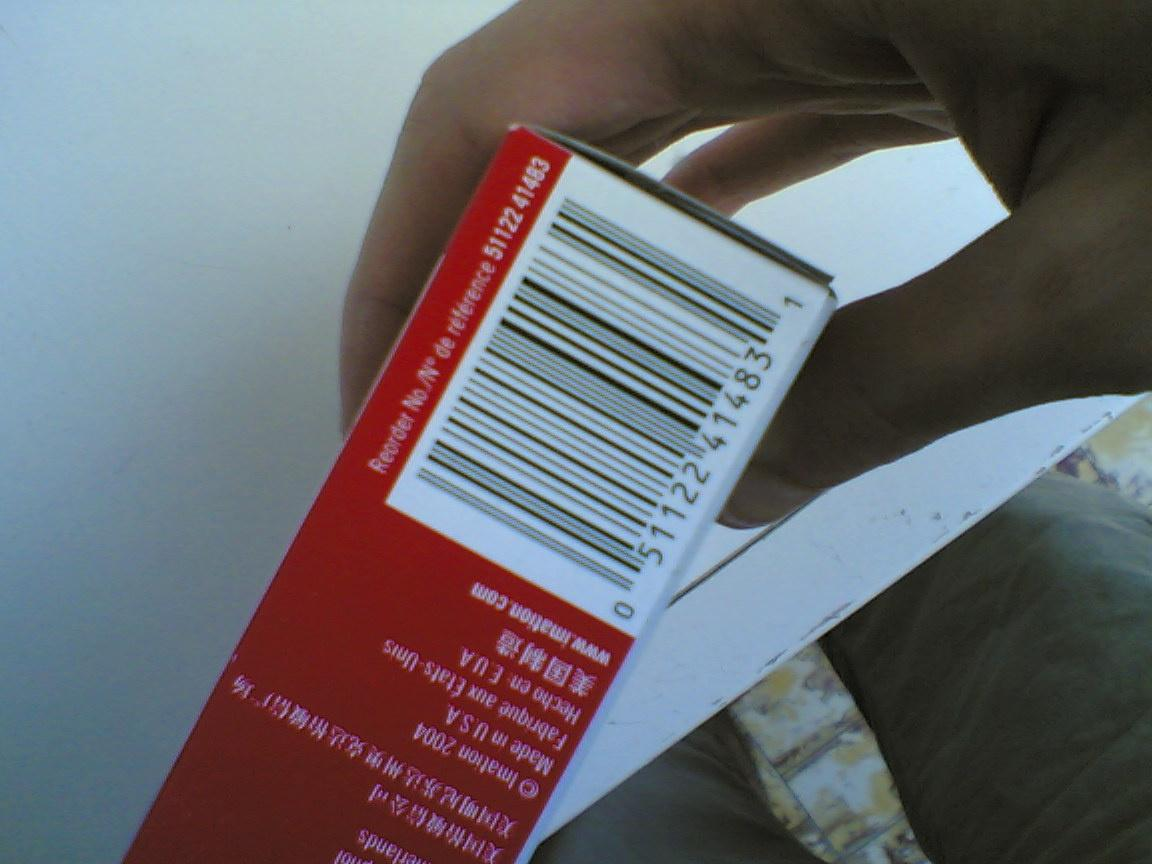Barcode: (385, 156, 843, 643)
